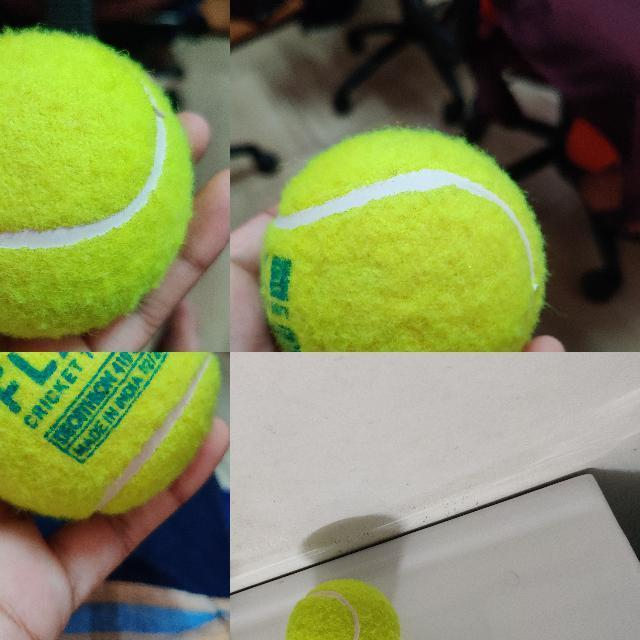tennis-ball: (260, 129, 545, 351), (0, 32, 191, 339), (0, 352, 219, 519), (282, 576, 402, 639)
